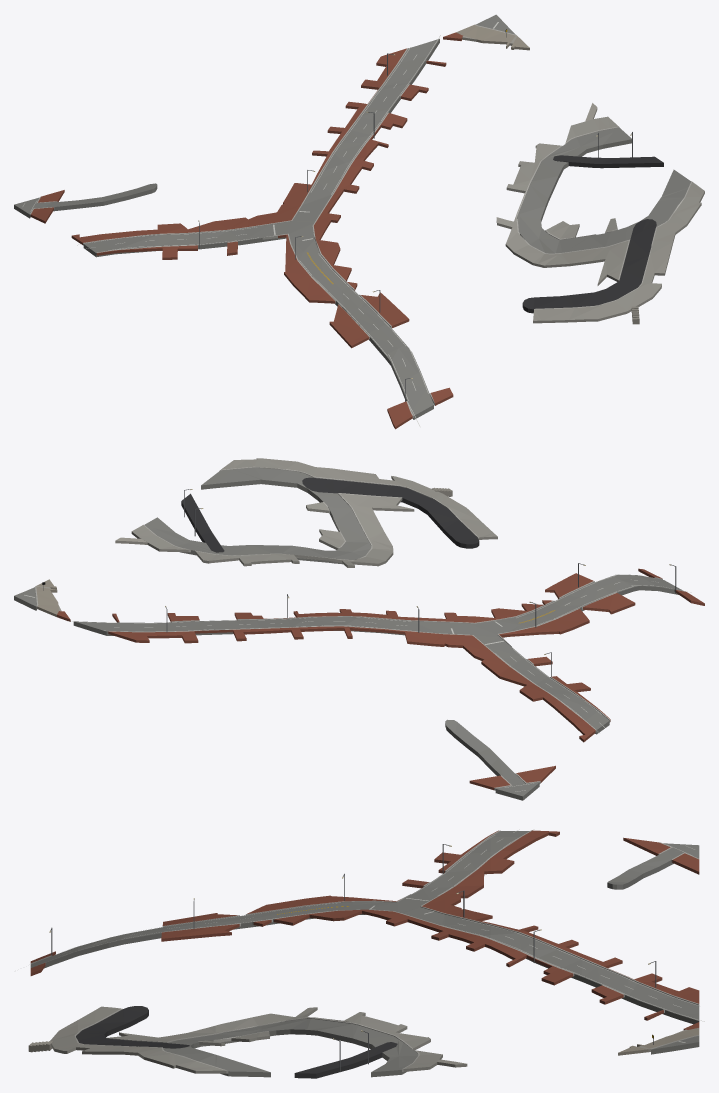
Rendered from 18-218895-118966.56dbfea0.glb.
3 renders of one model, top to bottom at view 1: azimuth 30°, elevation 25°; view 2: azimuth 150°, elevation 25°; view 3: azimuth 270°, elevation 25°, orthographic. The views are drawn at different scales.
Size of the model in its own units: 148 by 36.38 by 151.
